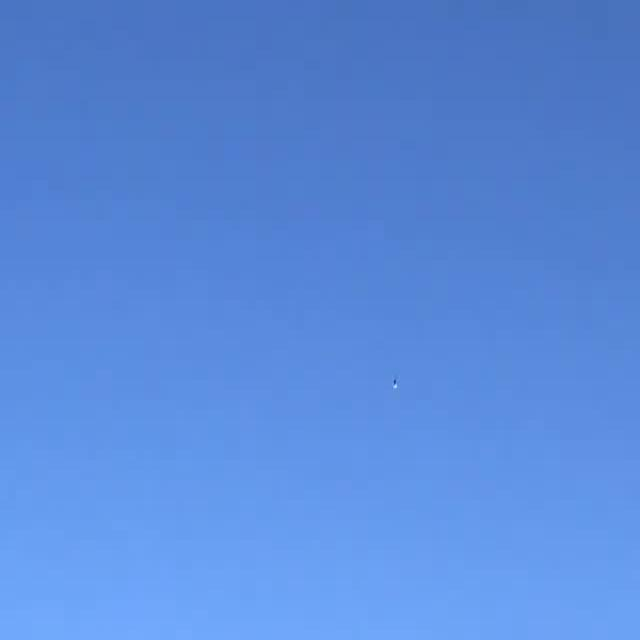bird: (385, 372, 406, 392)
